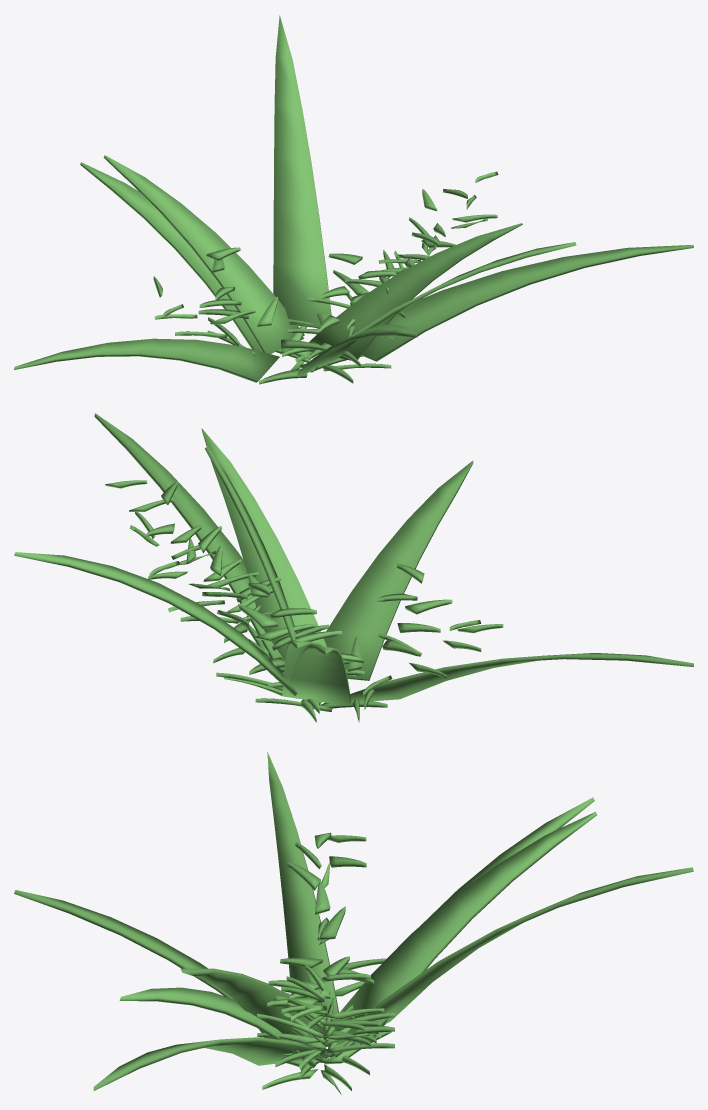
The model's file is fern_2.glb.
The picture shows the model from 3 angles, top to bottom: view 1: azimuth 30°, elevation 25°; view 2: azimuth 150°, elevation 25°; view 3: azimuth 270°, elevation 25°; orthographic projection. The views are drawn at different scales.
Parts seen in each view (by area): view 1: fern; view 2: fern; view 3: fern.
Part boxes in pixels (x1=…): fern: x1=14, y1=15, x2=693, y2=384; fern: x1=14, y1=413, x2=693, y2=722; fern: x1=14, y1=752, x2=693, y2=1094.
Size of the model in its own units: 1.15 by 0.397 by 0.9019.
